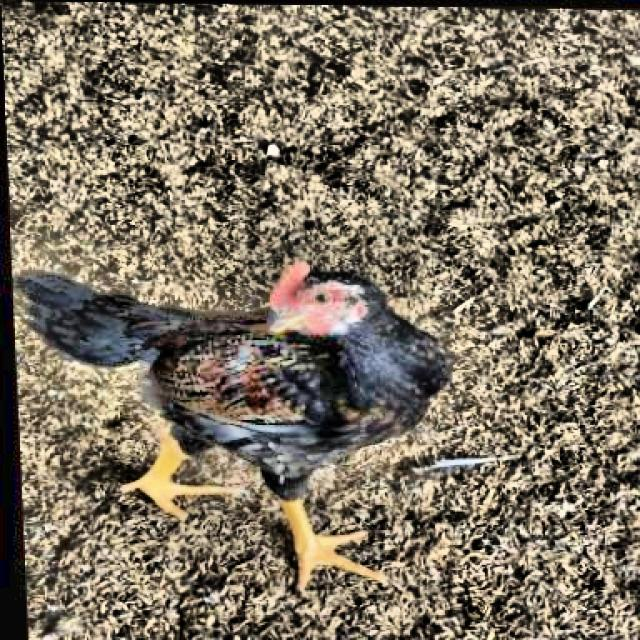Healthy: (310, 286, 340, 312)
